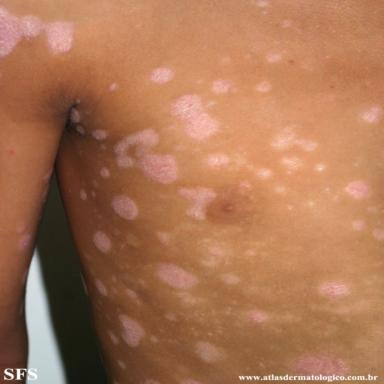Psoriasis: (114, 129, 178, 185), (0, 7, 73, 56), (171, 95, 220, 140), (179, 187, 216, 220), (271, 126, 318, 151), (291, 354, 345, 375), (156, 264, 197, 288), (118, 313, 146, 347), (156, 265, 195, 288), (310, 302, 377, 315), (200, 239, 227, 267), (156, 224, 191, 245), (195, 341, 225, 363), (317, 280, 350, 300), (112, 197, 138, 220), (241, 307, 269, 325), (343, 181, 371, 199), (176, 291, 206, 307), (148, 67, 173, 84), (68, 107, 84, 133), (93, 233, 111, 253), (361, 107, 382, 123), (207, 155, 229, 168), (212, 79, 231, 94), (125, 289, 141, 305), (221, 275, 240, 287), (282, 157, 301, 169), (18, 235, 32, 251), (95, 279, 108, 296), (238, 180, 252, 195), (351, 220, 367, 233), (91, 129, 107, 140), (256, 168, 272, 179), (255, 81, 271, 92), (274, 184, 289, 195), (265, 53, 281, 63), (163, 311, 178, 321), (371, 228, 383, 240), (315, 163, 326, 173), (100, 167, 110, 178), (281, 19, 293, 28), (108, 83, 118, 91), (17, 226, 26, 234)
